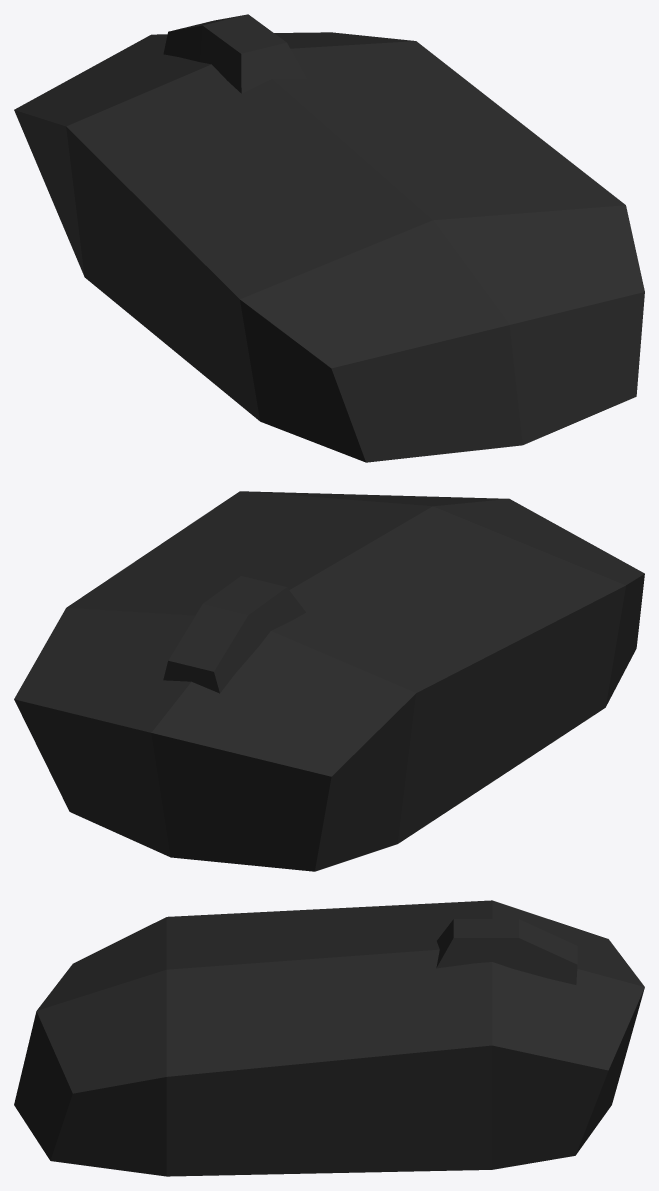
Rendered from pc-mouse.glb.
The picture shows the model from 3 angles, top to bottom: view 1: azimuth 30°, elevation 25°; view 2: azimuth 150°, elevation 25°; view 3: azimuth 270°, elevation 25°; orthographic projection. The views are drawn at different scales.
Parts seen in each view (by area): view 1: pc-mouse; view 2: pc-mouse; view 3: pc-mouse.
Part boxes in pixels (bbox=[...]): pc-mouse: bbox=[14, 14, 644, 462]; pc-mouse: bbox=[14, 491, 644, 871]; pc-mouse: bbox=[14, 900, 644, 1176].
Size of the model in its own units: 0.066 by 0.0339 by 0.11.
1 material, 1 textured.
